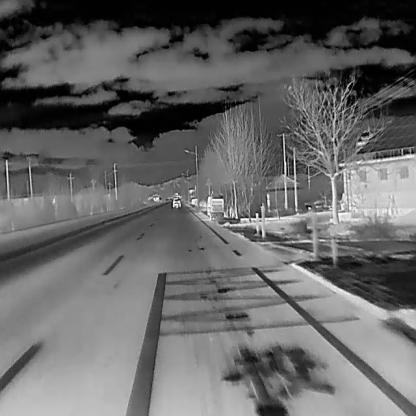car: (172, 197, 181, 207)
